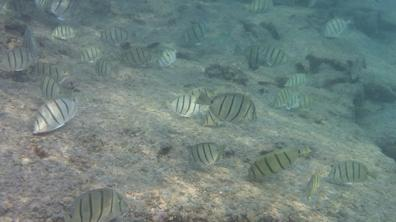Acanthuridae -Surgeonfishes-: (32, 87, 90, 134), (197, 88, 262, 127), (65, 186, 134, 222), (246, 142, 310, 180), (233, 41, 290, 69), (186, 141, 230, 171), (327, 160, 380, 184), (160, 92, 202, 119), (0, 46, 39, 74), (36, 1, 83, 22), (118, 45, 160, 66), (177, 20, 207, 49), (98, 25, 136, 47), (320, 16, 357, 37), (301, 167, 323, 202), (272, 86, 299, 111), (93, 55, 122, 77), (350, 56, 370, 82), (242, 0, 277, 13), (280, 74, 309, 89), (49, 23, 76, 39), (158, 45, 176, 69)
